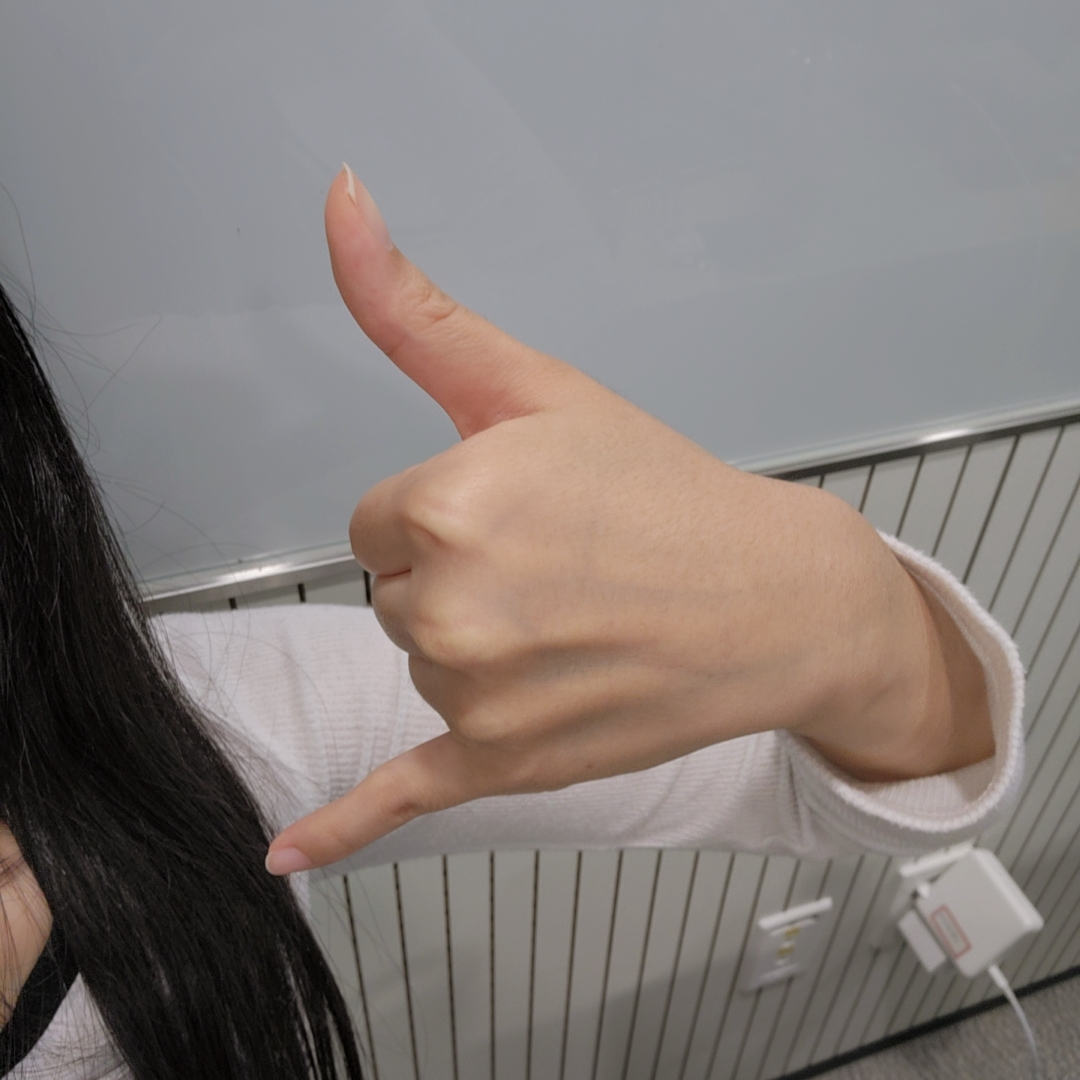call: (264, 166, 729, 875)
